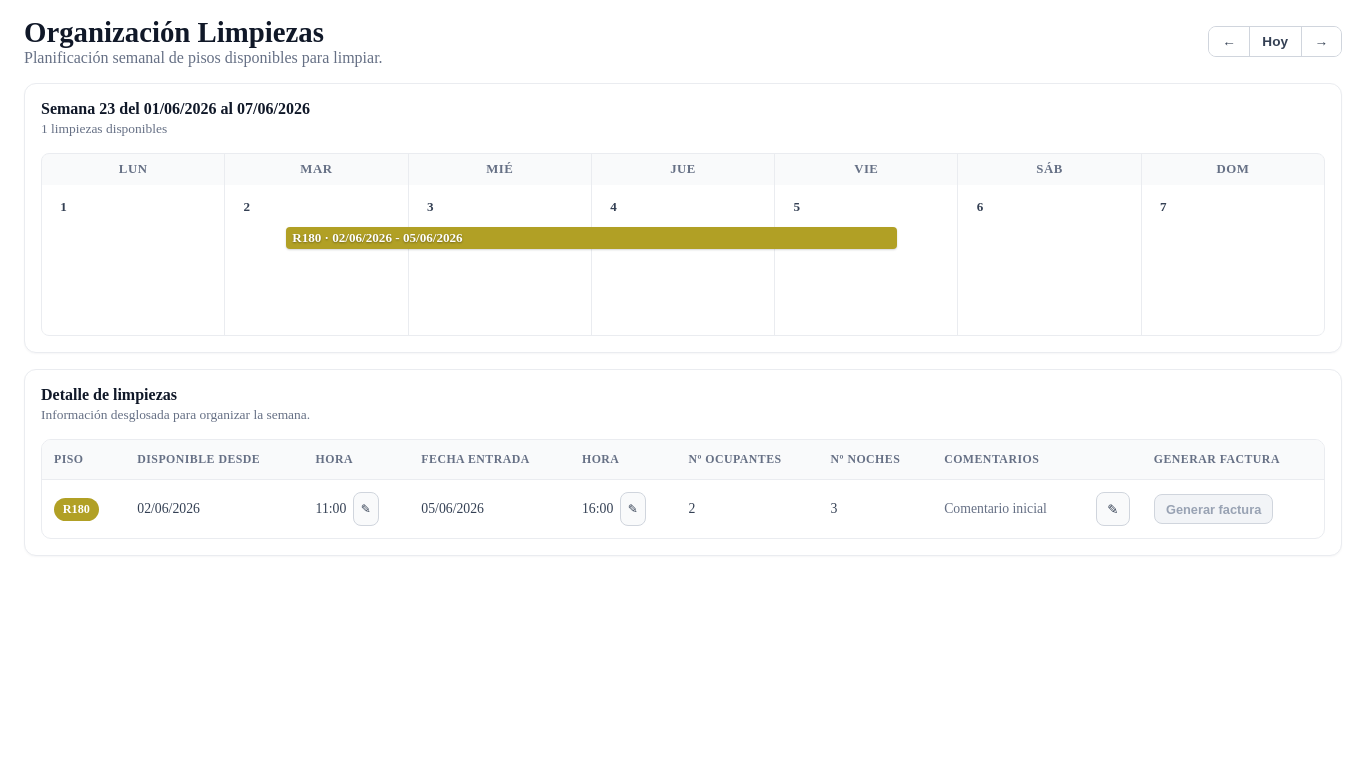
Scenario: CleaningOrganizationComponent › abre el modal de comentarios y lo cierra al pulsar fuera sin guardar
The width and height of the screenshot is (1366, 768).
Click the button with class "edit-btn".
click(1113, 509)  # box [1096,492,1130,526]
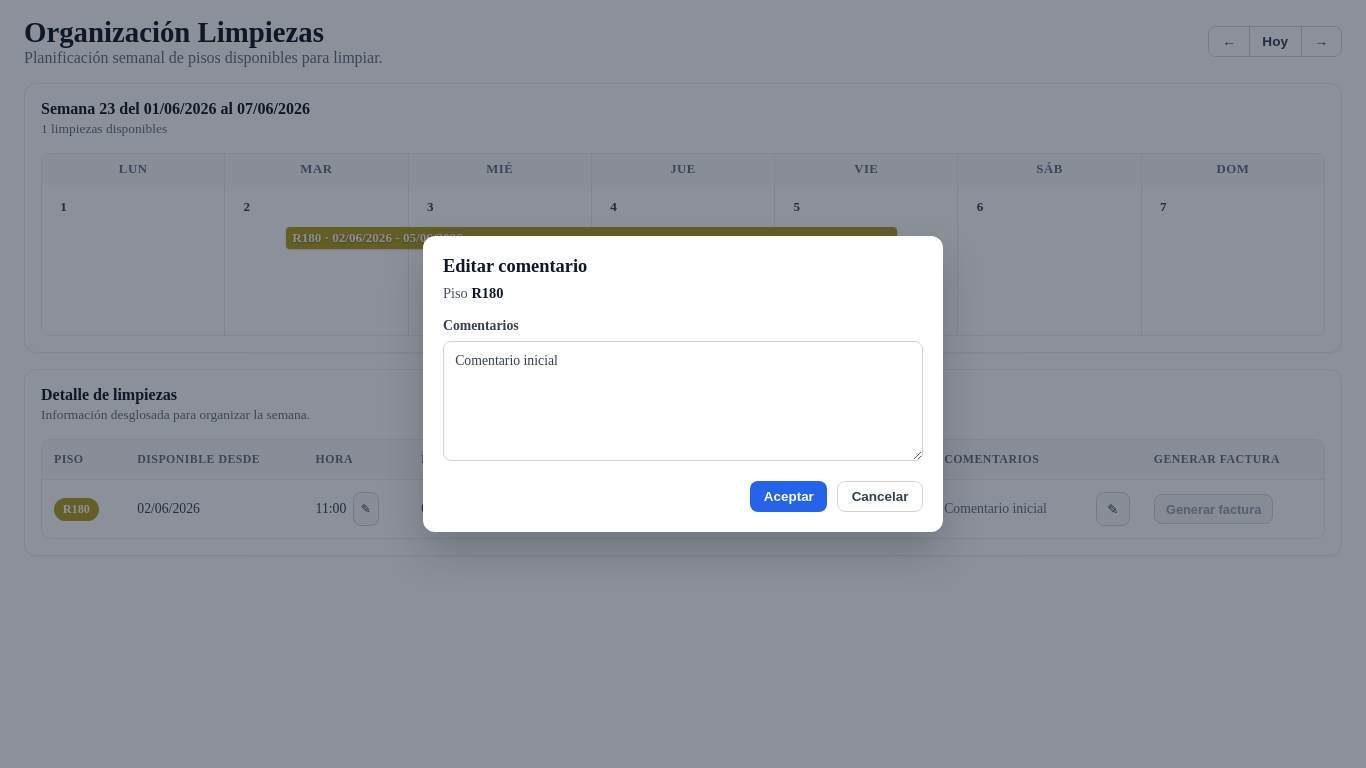
Check: the text box labelled "Comentarios" holds "Comentario inicial", box [443,341,923,461]
Click the element with class "modal-backdrop".
click(683, 384)  # box [0,0,1365,767]
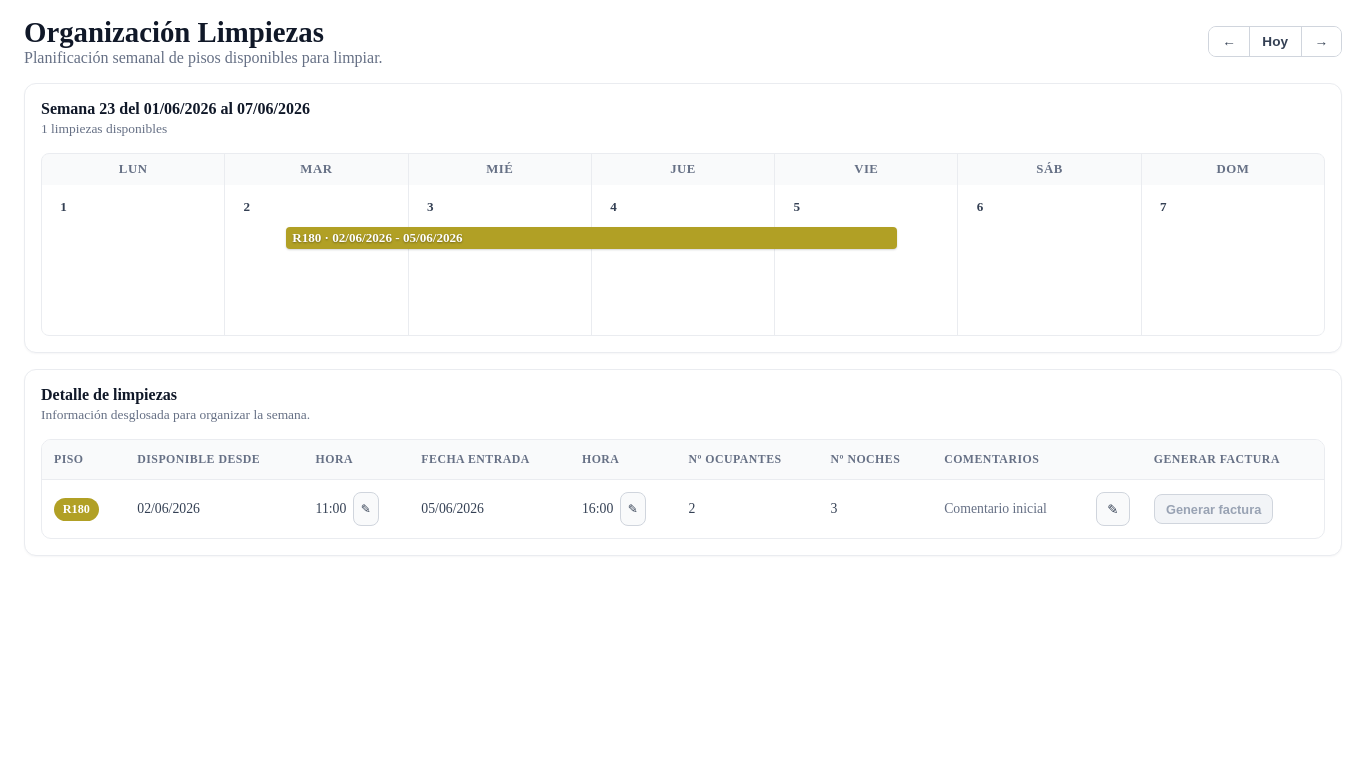
Check: the dialog with class "comment-dialog" is gone
